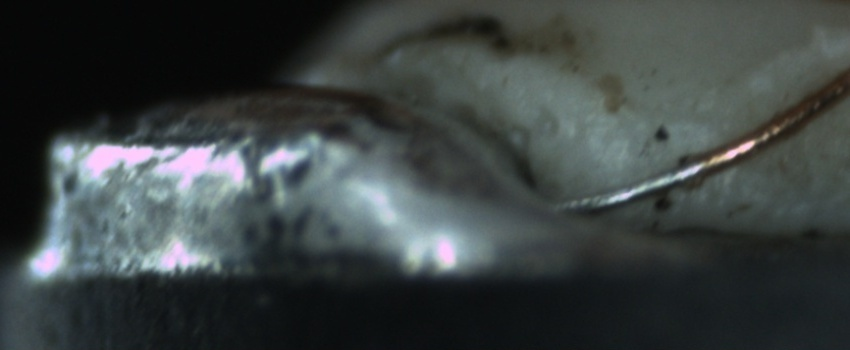TS: (553, 161, 698, 217)
